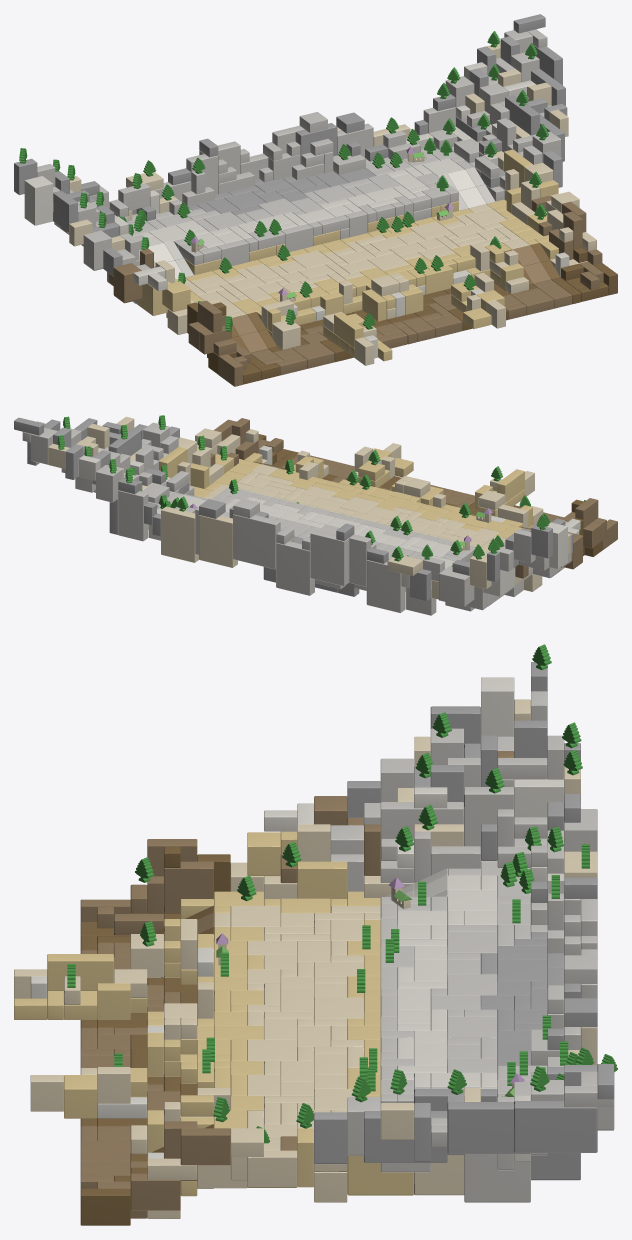
The model's file is town master kani.fbx.
3 renders of one model, top to bottom at view 1: azimuth 30°, elevation 25°; view 2: azimuth 150°, elevation 25°; view 3: azimuth 270°, elevation 25°, orthographic. The views are drawn at different scales.
Visible parts, largest first — view 1: BuildimgA4; view 2: BuildimgA4; view 3: BuildimgA4.
Part boxes in pixels (x1,y1,x2,y2): BuildimgA4: [14, 14, 617, 386]; BuildimgA4: [14, 415, 617, 615]; BuildimgA4: [14, 644, 617, 1225].
Bounding box in the file's own units: 1800 × 465 × 1087.
